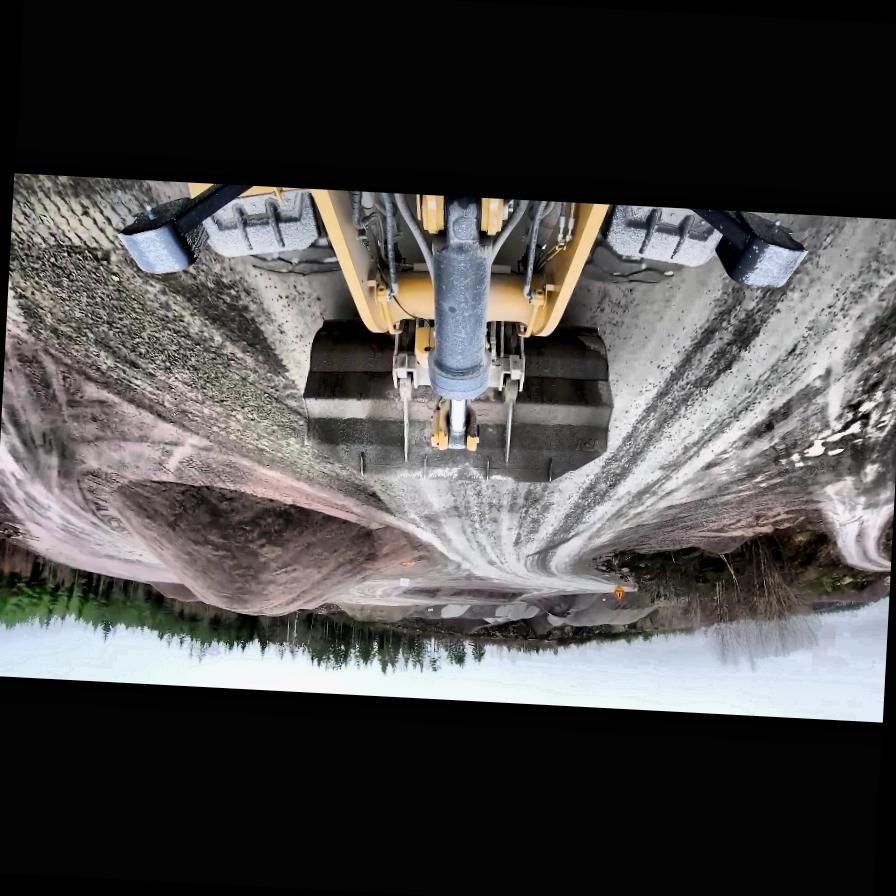anchor: (430, 398, 481, 453)
pile of gravel: (94, 474, 427, 626), (535, 588, 656, 632), (336, 602, 420, 625), (142, 582, 202, 602)
